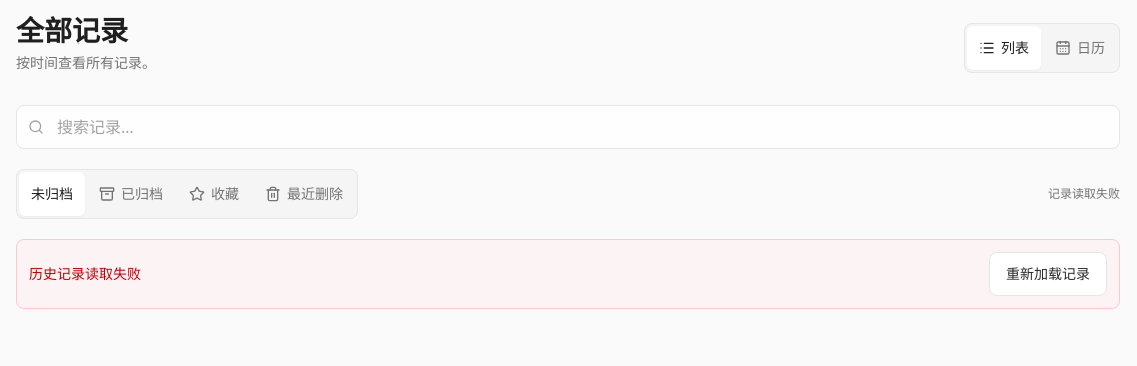
TimelinePage › does not turn an initial load failure into an empty timeline
Expected: the message reads "历史记录读取失败", x1=29 y1=264 x2=141 y2=283
Click the button "重新加载记录".
click(1048, 274)  # box x1=989 y1=252 x2=1107 y2=296
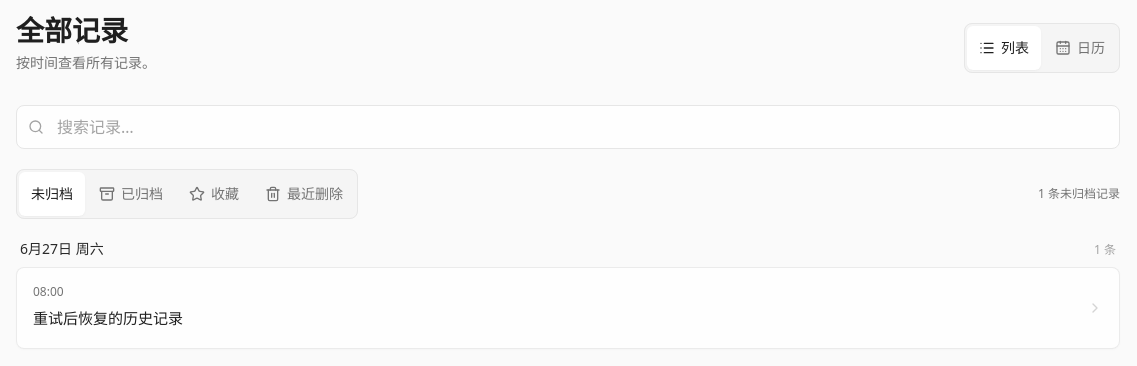
Expected: the text "重试后恢复的历史记录" is shown, x1=33 y1=308 x2=183 y2=328
